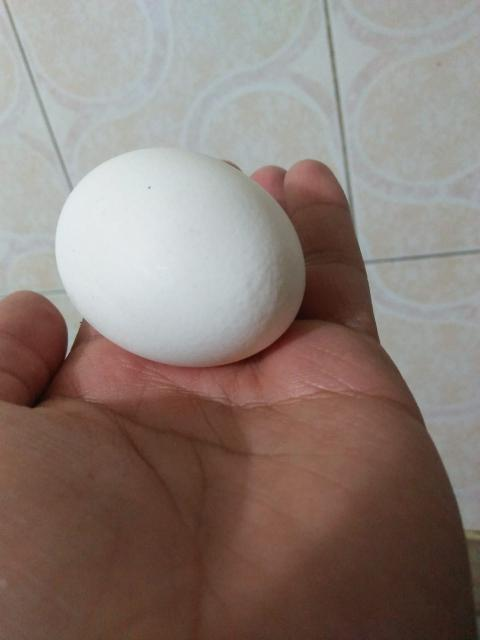Sano: (54, 146, 307, 368)
